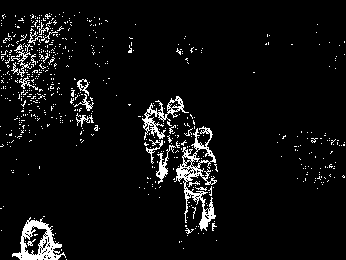person: (176, 127, 218, 233), (141, 99, 169, 185), (72, 78, 100, 143), (165, 94, 196, 151)
